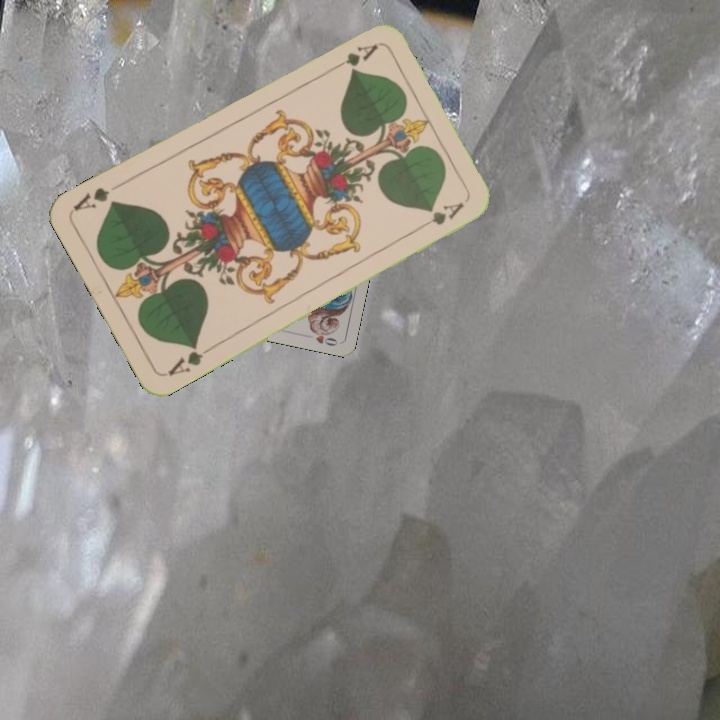GA: (163, 340, 216, 379), (325, 40, 381, 72)
